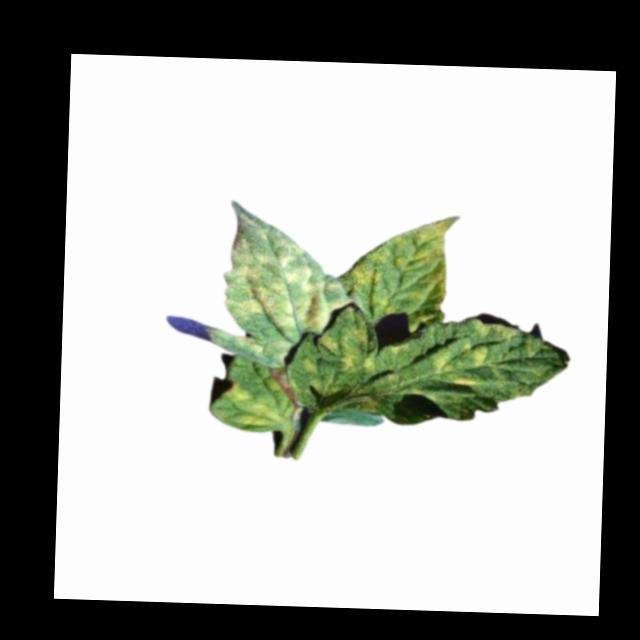Leaf_Mold: (220, 209, 350, 367), (349, 212, 460, 331), (430, 338, 486, 391), (318, 325, 376, 372), (221, 383, 278, 427), (468, 313, 517, 341)
